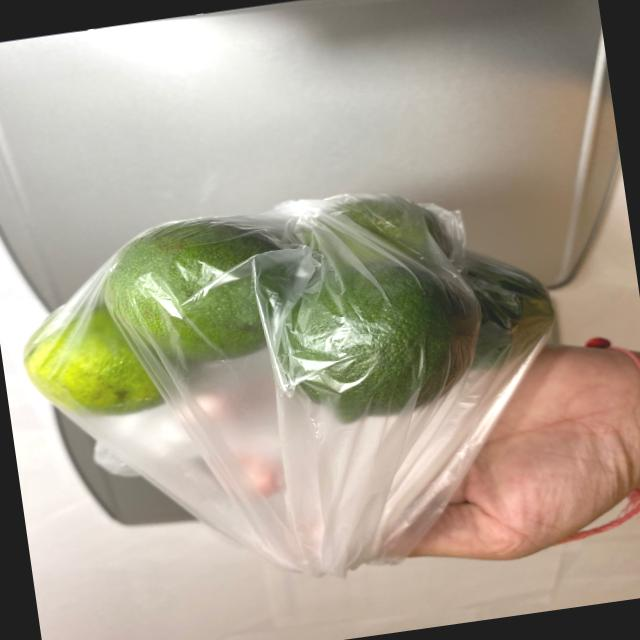lemon: (9, 168, 576, 464)
